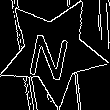N_N: (29, 22, 78, 80)
